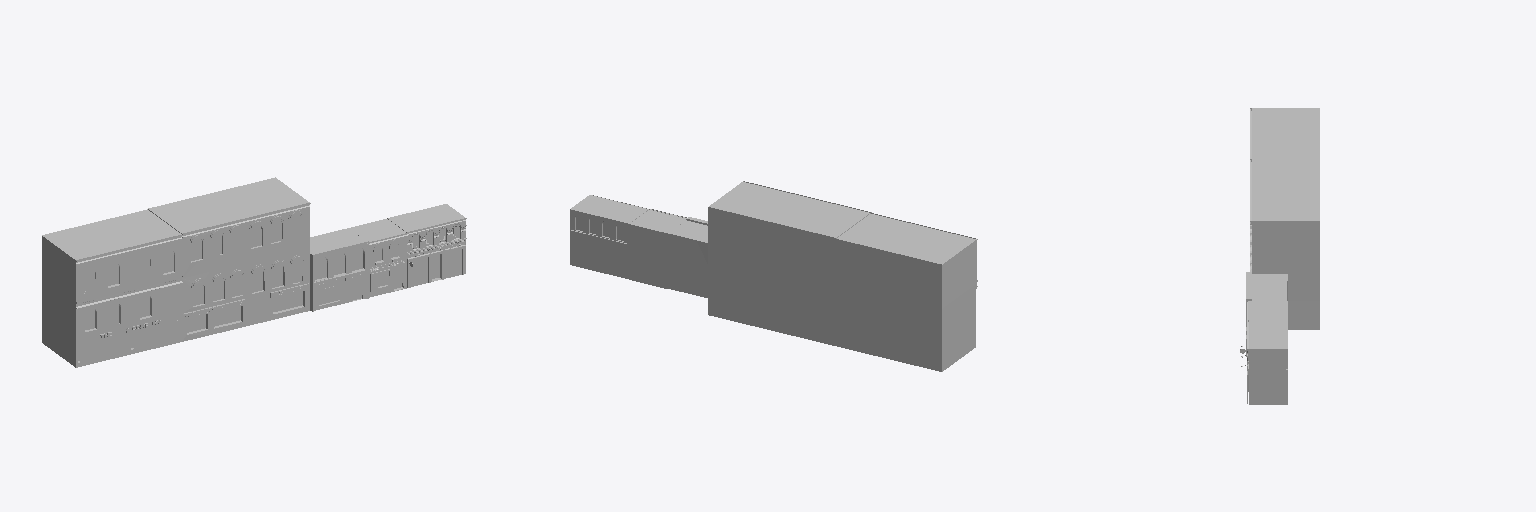
File: StreetScene.obj
The picture shows the model from 3 angles: view 1: azimuth 30°, elevation 25°; view 2: azimuth 150°, elevation 25°; view 3: azimuth 270°, elevation 25°; orthographic projection.
Visible parts, largest first — view 1: Edificio_5; view 2: Edificio_5; view 3: Edificio_5.
Boxes of the visible parts, x1=… form: Edificio_5: x1=42, y1=177, x2=466, y2=367; Edificio_5: x1=570, y1=181, x2=977, y2=371; Edificio_5: x1=1240, y1=108, x2=1319, y2=404.
Size of the model in its own units: 261 by 69.62 by 46.74.